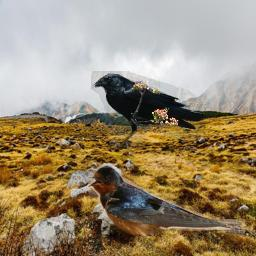Crow: (89, 71, 206, 149)
Swallow: (88, 164, 245, 236)
